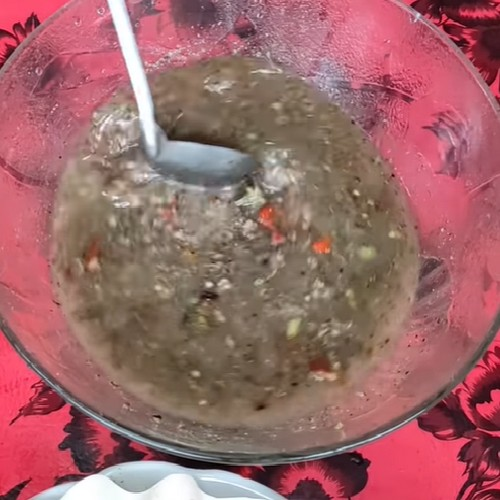komoh: (64, 199, 421, 425)
